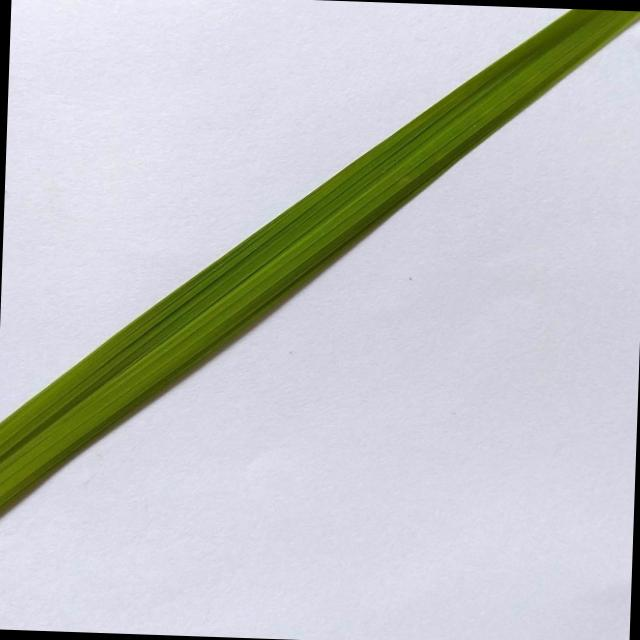Rice_Healthy: (0, 9, 640, 509)
